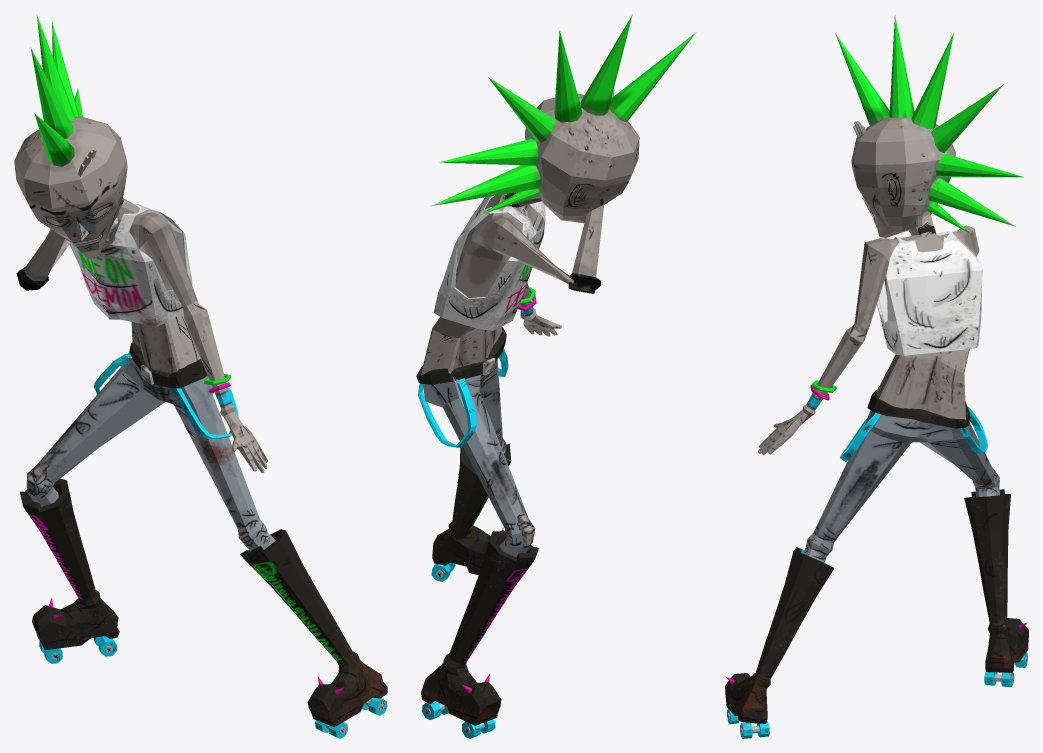
File: punkAnimation_000025.obj
The picture shows the model from 3 angles, left to right: view 1: azimuth 30°, elevation 25°; view 2: azimuth 150°, elevation 25°; view 3: azimuth 270°, elevation 25°; orthographic projection. The views are drawn at different scales.
Visible parts, largest first — view 1: Cube.004_Cube.003; view 2: Cube.004_Cube.003; view 3: Cube.004_Cube.003.
Boxes of the visible parts, x1,y1,x2,y2 form: Cube.004_Cube.003: [14, 14, 387, 738]; Cube.004_Cube.003: [416, 14, 695, 738]; Cube.004_Cube.003: [725, 15, 1028, 738].
Size of the model in its own units: 3.13 by 6.72 by 3.01.
